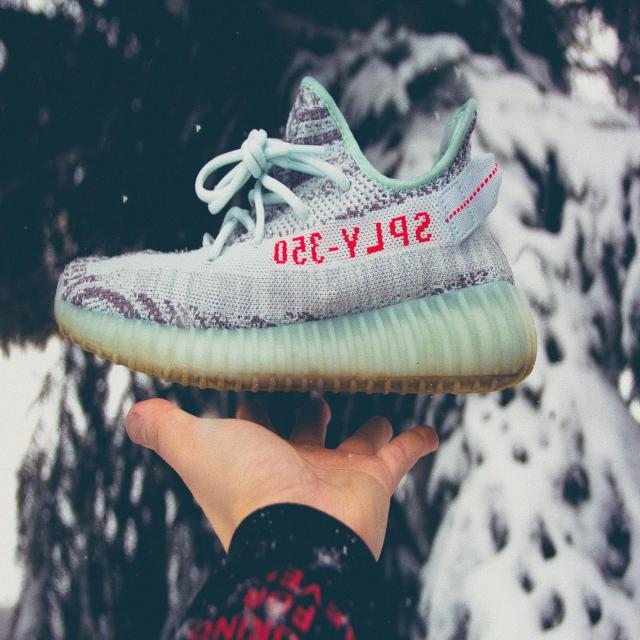shoes: (50, 72, 540, 400)
